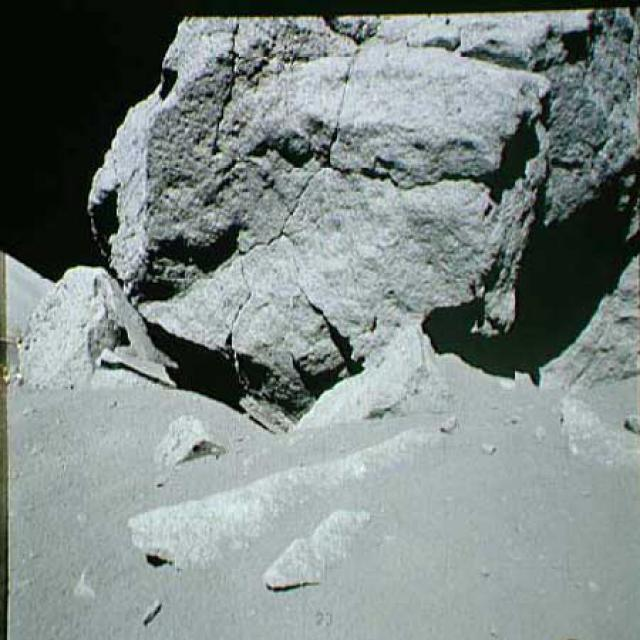rock: (14, 1, 639, 398), (105, 419, 462, 593), (18, 262, 174, 390), (261, 506, 384, 588), (544, 400, 638, 475), (142, 412, 228, 466)
